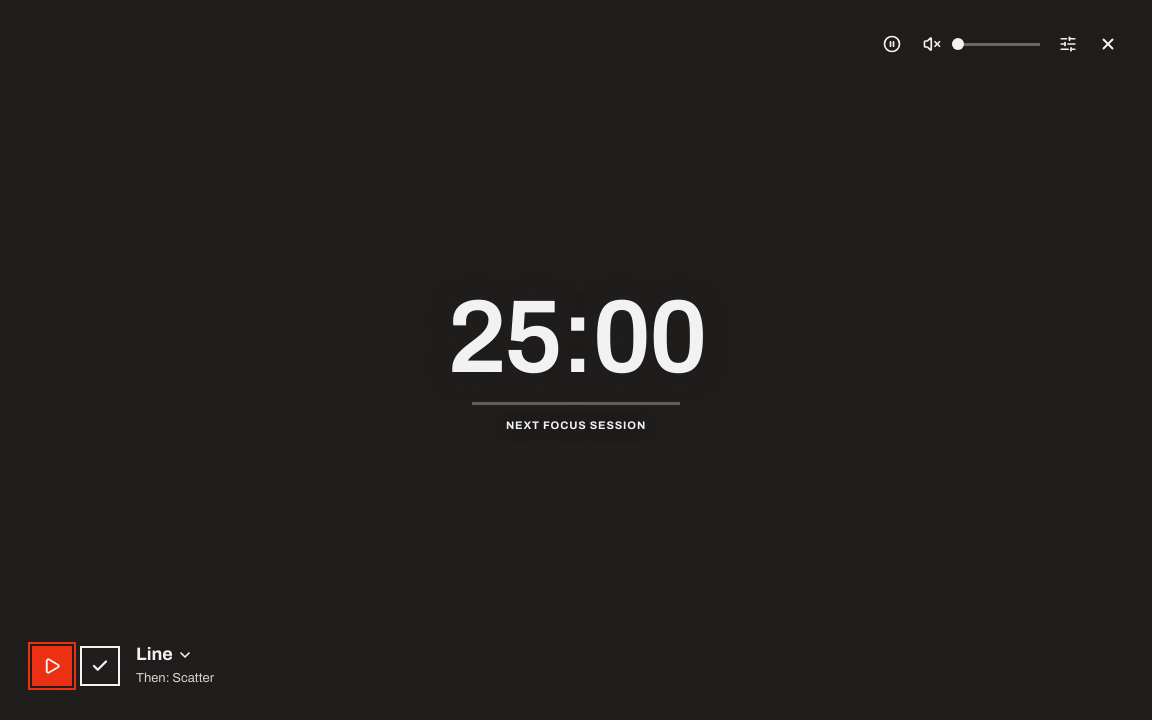
FocusMode › marks the selection done and hands off to the next step
Click the button with class "fm-done".
click(100, 666)  # box 80,646 -> 120,686
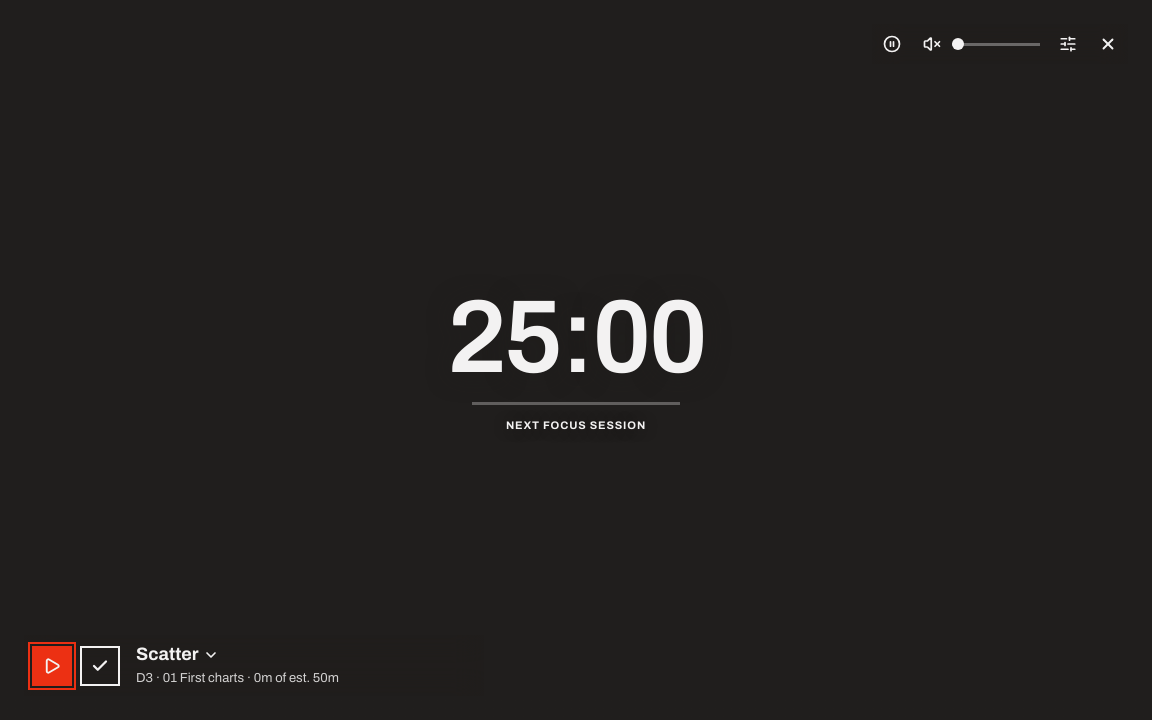
Now the text with class "fm-item-title" reads "Scatter", box 136,644 -> 199,664
